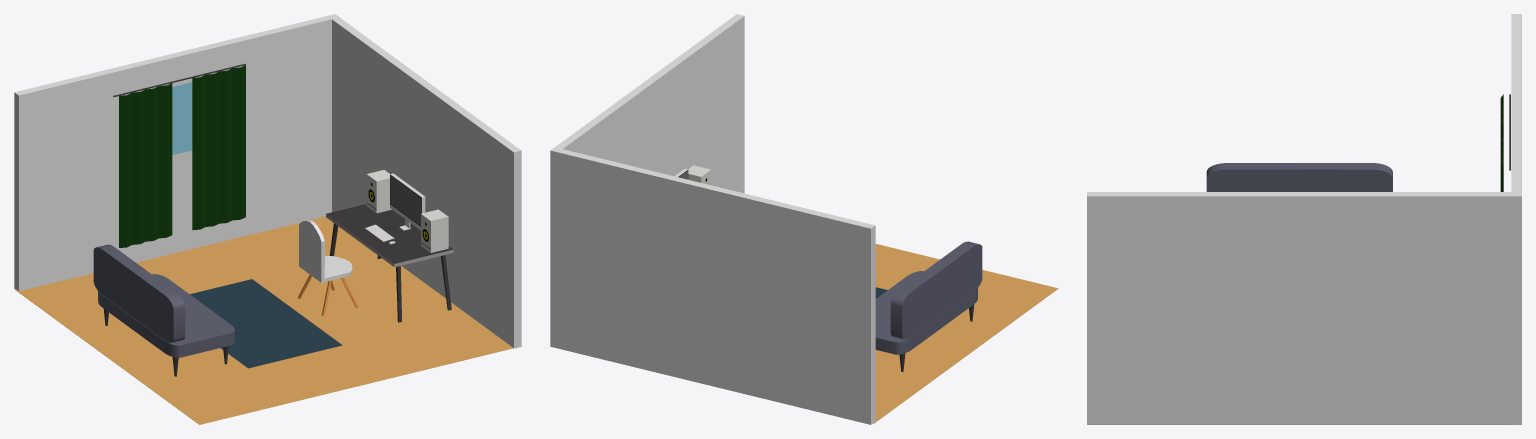
The model's file is Studio-Env_Rap-battle.fbx.
3 renders of one model, left to right at view 1: azimuth 30°, elevation 25°; view 2: azimuth 150°, elevation 25°; view 3: azimuth 270°, elevation 25°, orthographic. The views are drawn at different scales.
Visible parts, largest first — view 1: wall, floorr, Wall, Lounge, curtain, curtain1, carpet, table, chair, lcd, speakers, speakers.001; view 2: wall, Wall, floorr, Lounge; view 3: Wall, Lounge, wall, floorr.
Boxes of the visible parts, left/top/right/bottom form: wall: left=14, top=14, right=339, bottom=291; floorr: left=15, top=216, right=513, bottom=424; Wall: left=332, top=16, right=521, bottom=348; Lounge: left=93, top=244, right=234, bottom=376; curtain: left=192, top=65, right=245, bottom=230; curtain1: left=119, top=83, right=172, bottom=247; carpet: left=190, top=279, right=342, bottom=368; table: left=326, top=204, right=453, bottom=322; chair: left=297, top=220, right=358, bottom=315; lcd: left=390, top=173, right=425, bottom=230; speakers: left=421, top=209, right=448, bottom=252; speakers.001: left=366, top=170, right=391, bottom=213; wall: left=550, top=147, right=875, bottom=424; Wall: left=552, top=14, right=744, bottom=193; floorr: left=873, top=244, right=1058, bottom=423; Lounge: left=875, top=241, right=982, bottom=371; Wall: left=1087, top=192, right=1511, bottom=424; Lounge: left=1206, top=163, right=1392, bottom=191; wall: left=1511, top=14, right=1521, bottom=424; floorr: left=1088, top=424, right=1510, bottom=424.
Size of the model in its own units: 3776 by 2198 by 3789.
